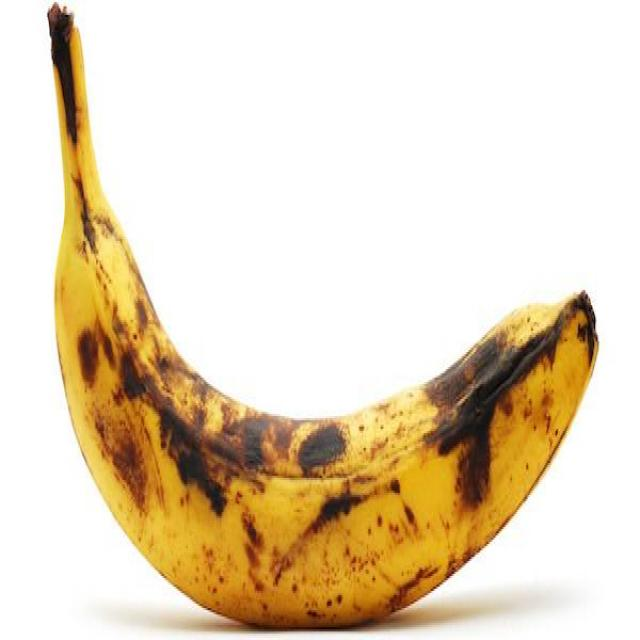Banana: (46, 6, 603, 628)
